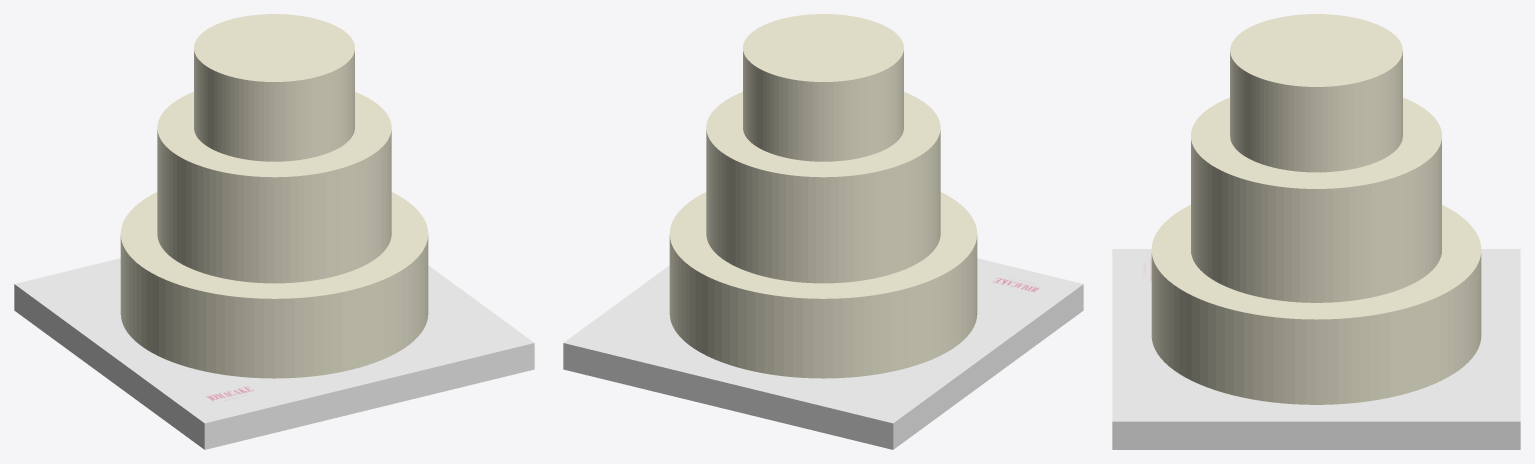
Rendered from cake_tier3_8-6-4_layers2_v33.glb.
The picture shows the model from 3 angles, left to right: view 1: azimuth 30°, elevation 25°; view 2: azimuth 150°, elevation 25°; view 3: azimuth 270°, elevation 25°; orthographic projection. The views are drawn at different scales.
Visible parts, largest first — view 1: Board, Tier0, Tier1, Tier2, Logo; view 2: Board, Tier0, Tier1, Tier2, Logo; view 3: Tier0, Tier1, Board, Tier2, Logo.
Boxes of the visible parts, <box> form: Board: <box>14,258,534,449</box>; Tier0: <box>120,192,428,378</box>; Tier1: <box>157,92,391,283</box>; Tier2: <box>194,14,354,161</box>; Logo: <box>198,383,265,406</box>; Board: <box>563,258,1083,449</box>; Tier0: <box>669,192,977,378</box>; Tier1: <box>706,92,940,283</box>; Tier2: <box>743,14,903,161</box>; Logo: <box>984,271,1051,295</box>; Tier0: <box>1151,205,1481,404</box>; Tier1: <box>1191,97,1441,302</box>; Board: <box>1112,249,1520,449</box>; Tier2: <box>1230,14,1402,172</box>; Logo: <box>1136,256,1151,283</box>.
Size of the model in its own units: 0.26 by 0.22 by 0.26.
